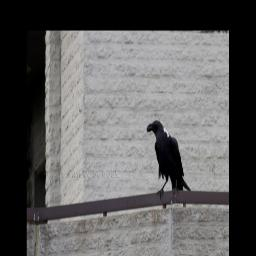Crow: (146, 118, 193, 207)
